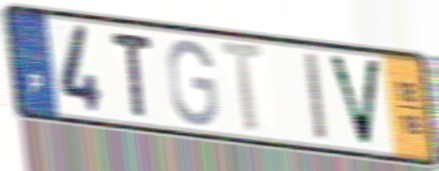4: (57, 21, 109, 119)
G: (165, 36, 221, 129)
I: (302, 49, 331, 145)
T: (217, 37, 271, 137), (108, 28, 156, 122)
V: (324, 51, 384, 151)
